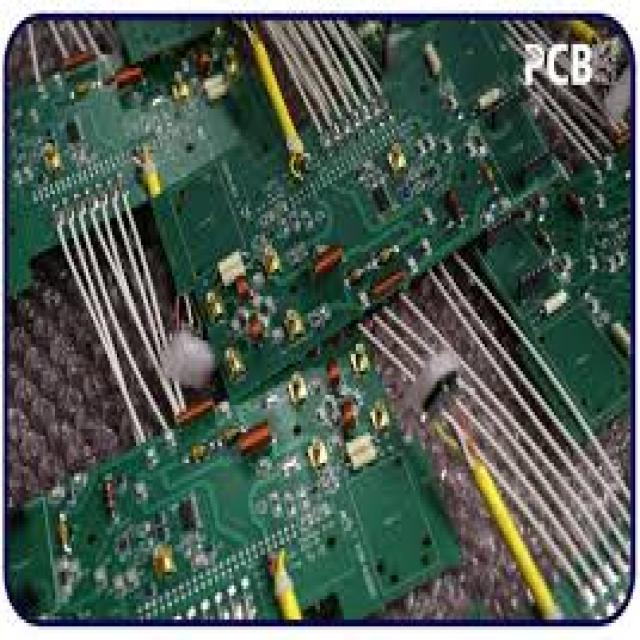pcb: (5, 17, 633, 623), (146, 17, 558, 405), (5, 337, 461, 623), (5, 17, 253, 296), (468, 143, 633, 443)
